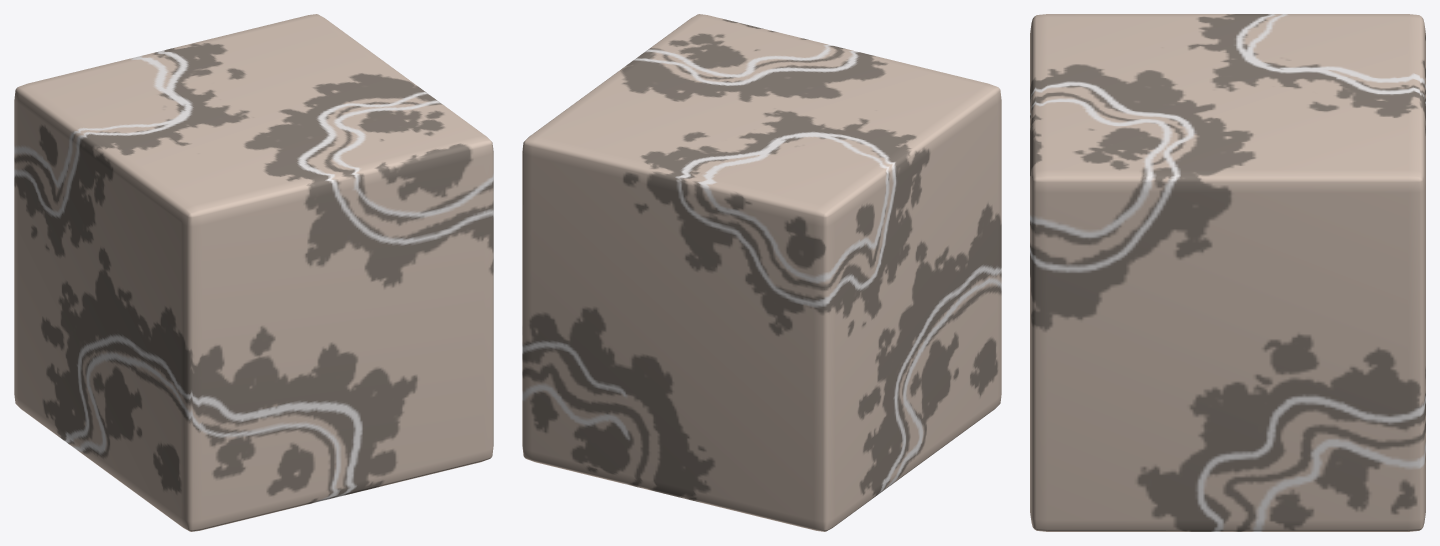
Rendered from SM_Concrete.fbx.
The picture shows the model from 3 angles, left to right: view 1: azimuth 30°, elevation 25°; view 2: azimuth 150°, elevation 25°; view 3: azimuth 270°, elevation 25°; orthographic projection. The views are drawn at different scales.
Parts seen in each view (by area): view 1: Concrete; view 2: Concrete; view 3: Concrete.
Boxes of the visible parts, x1,y1,x2,y2 form: Concrete: [14, 14, 493, 531]; Concrete: [522, 14, 1001, 531]; Concrete: [1030, 14, 1425, 531].
Size of the model in its own units: 100 by 100 by 100.
